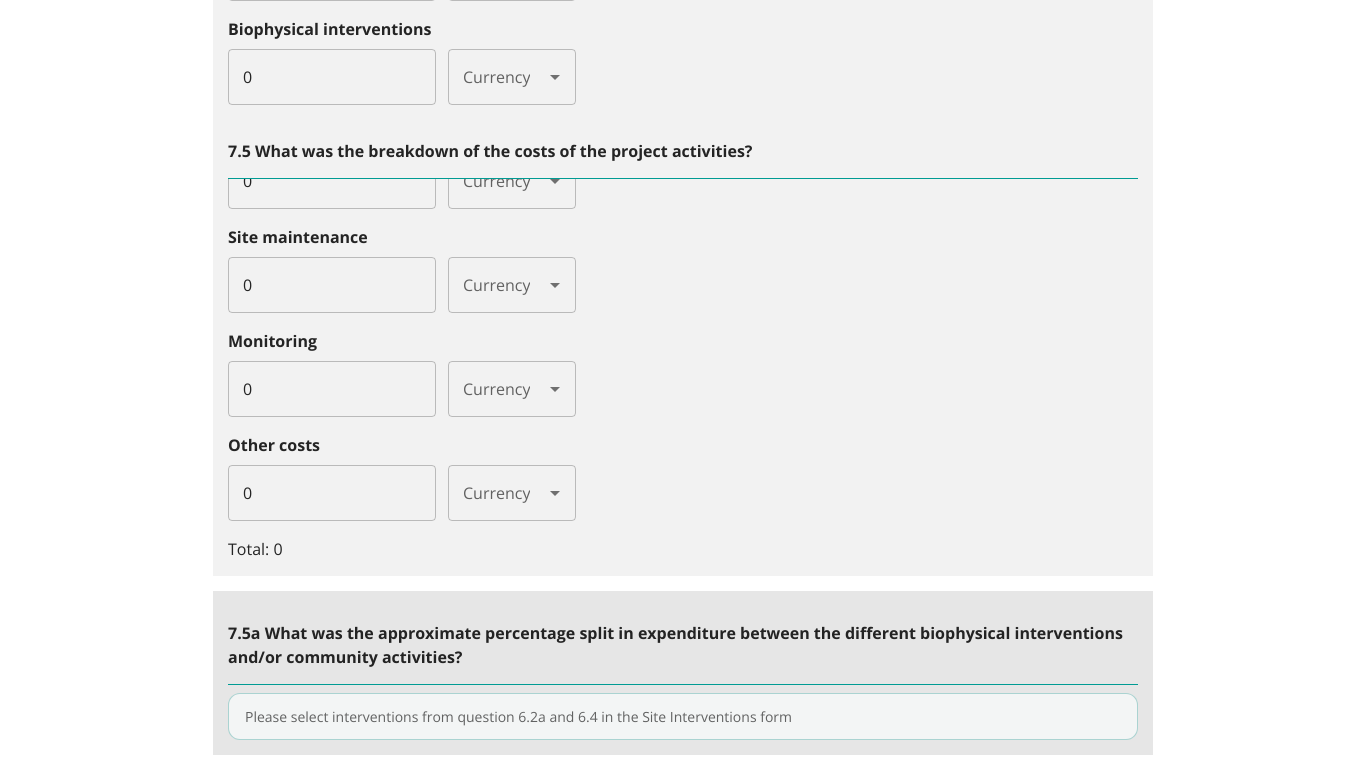
Test case: section forms › CostsForm › warns when there are no interventions to split, and when the breakdown exceeds the total
(page scrolled)
Check: the text "Please select interventions from question 6.2a and 6.4 in the Site Interventions form" is shown, box [245, 706, 792, 726]
Check: the text "Breakdown of activities must not exceed total cost in 7.4" is not shown
Replace the text in the field named "Monitoring: cost" next to "Monitoring: cost" with "150" at point(332, 388), box [228, 360, 436, 416]
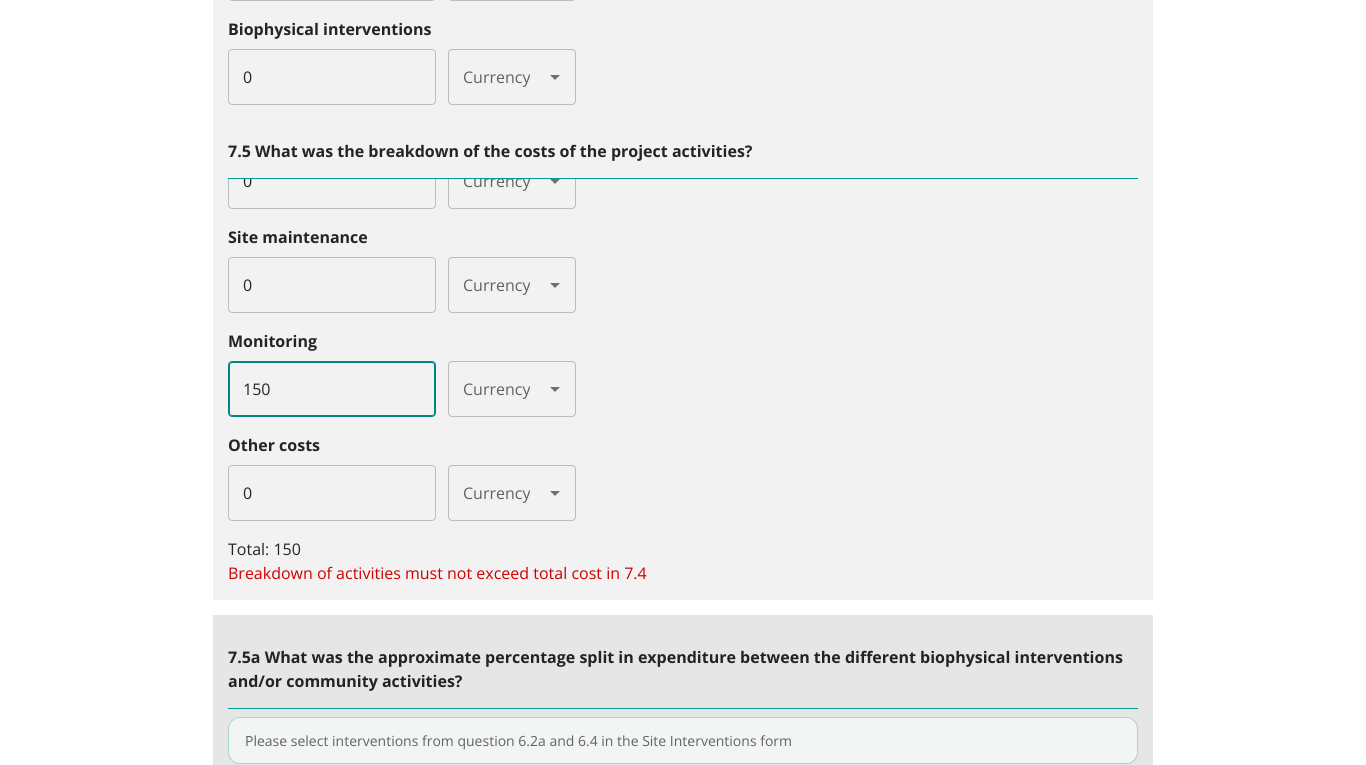
Check: the text "Total: 150" is shown, box [228, 538, 301, 560]
Check: the text "Breakdown of activities must not exceed total cost in 7.4" is shown, box [228, 562, 647, 584]
